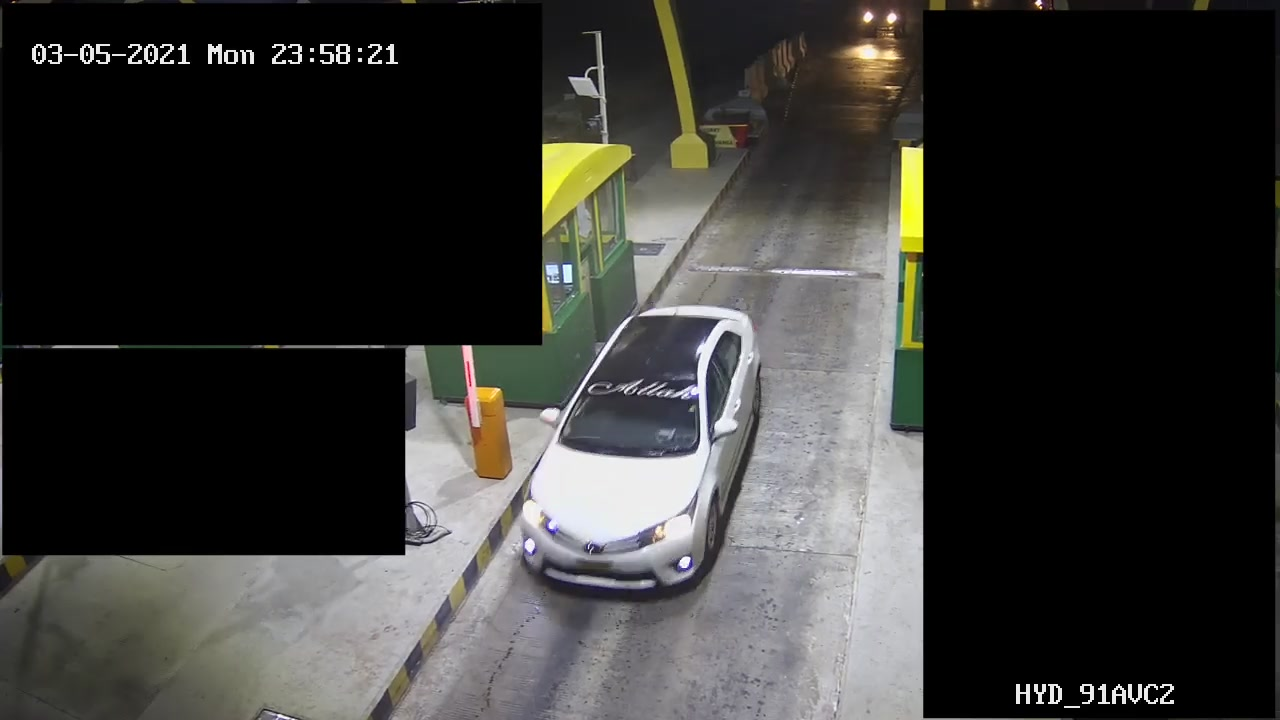F1: (509, 296, 770, 607)
